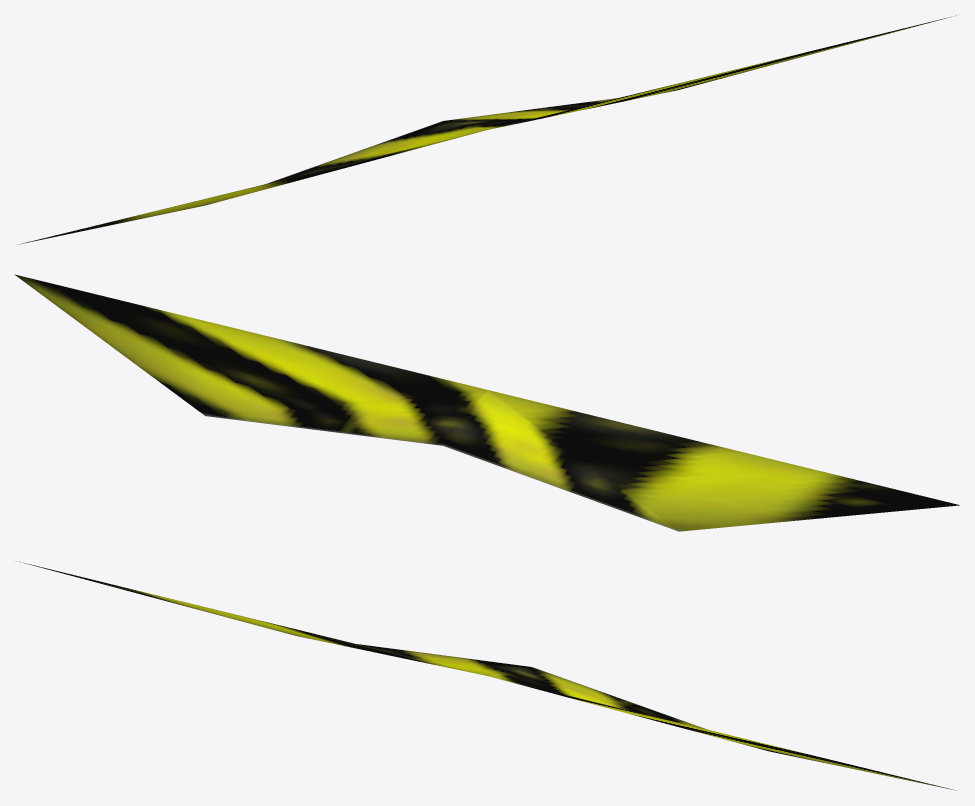
File: Randstein_Flach [Gelb]_519.glb
The picture shows the model from 3 angles, top to bottom: view 1: azimuth 30°, elevation 25°; view 2: azimuth 150°, elevation 25°; view 3: azimuth 330°, elevation 25°; orthographic projection.
Parts seen in each view (by area): view 1: pPlaneShape172; view 2: pPlaneShape172; view 3: pPlaneShape172.
Part boxes in pixels (x1,y1,x2,y2): pPlaneShape172: (18, 15, 955, 244); pPlaneShape172: (14, 274, 959, 531); pPlaneShape172: (19, 561, 956, 790).
Bounding box in the file's own units: 1 × 0.0514 × 0.0829.
1 material, 1 textured.
